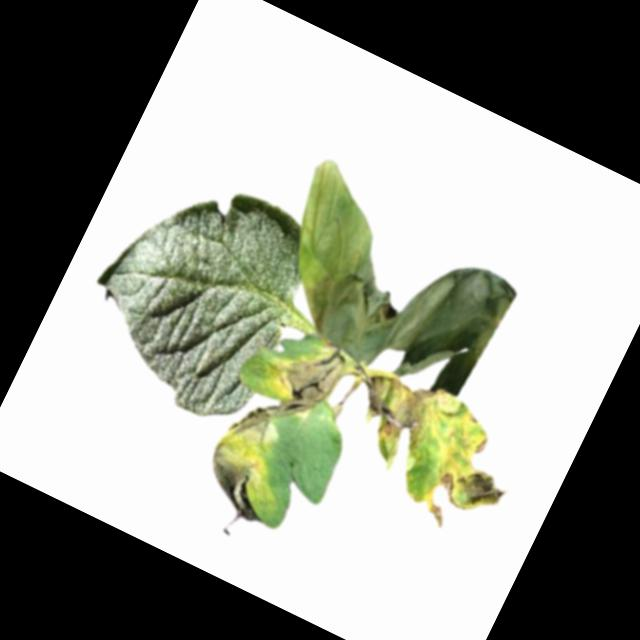Late_blight: (247, 154, 534, 410), (320, 356, 538, 549), (192, 393, 315, 530), (257, 329, 349, 427)
healthy: (61, 148, 330, 433)
